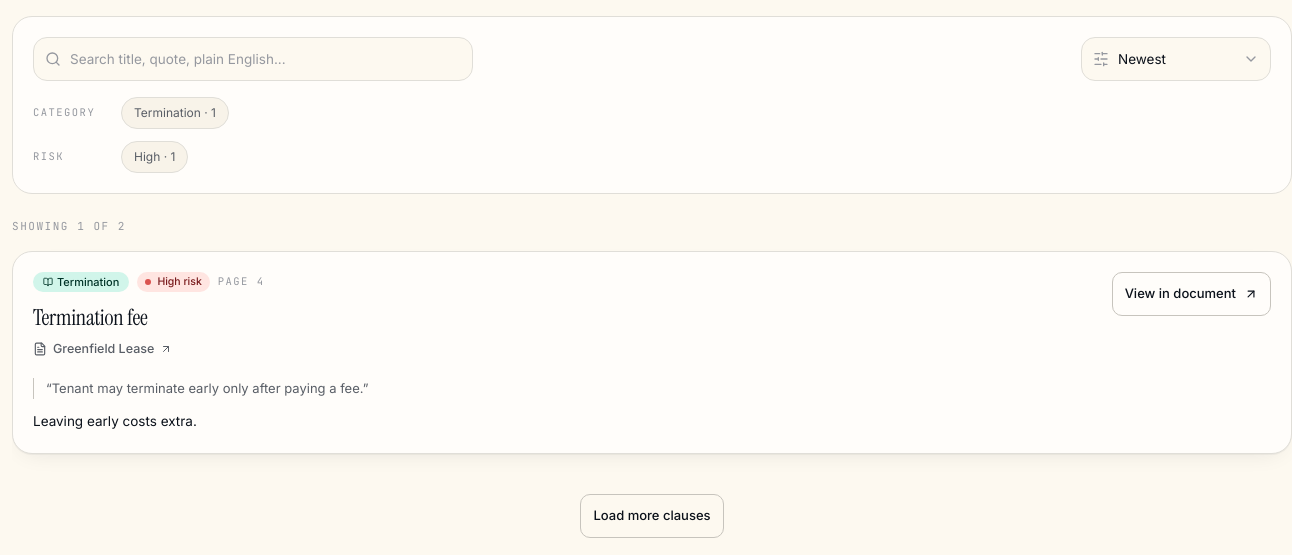
Test case: ClauseLibrary › discards a stale load-more response instead of merging it into a newly filtered list
Click the button "Load more clauses" at (652, 516), box [580,494,724,538]
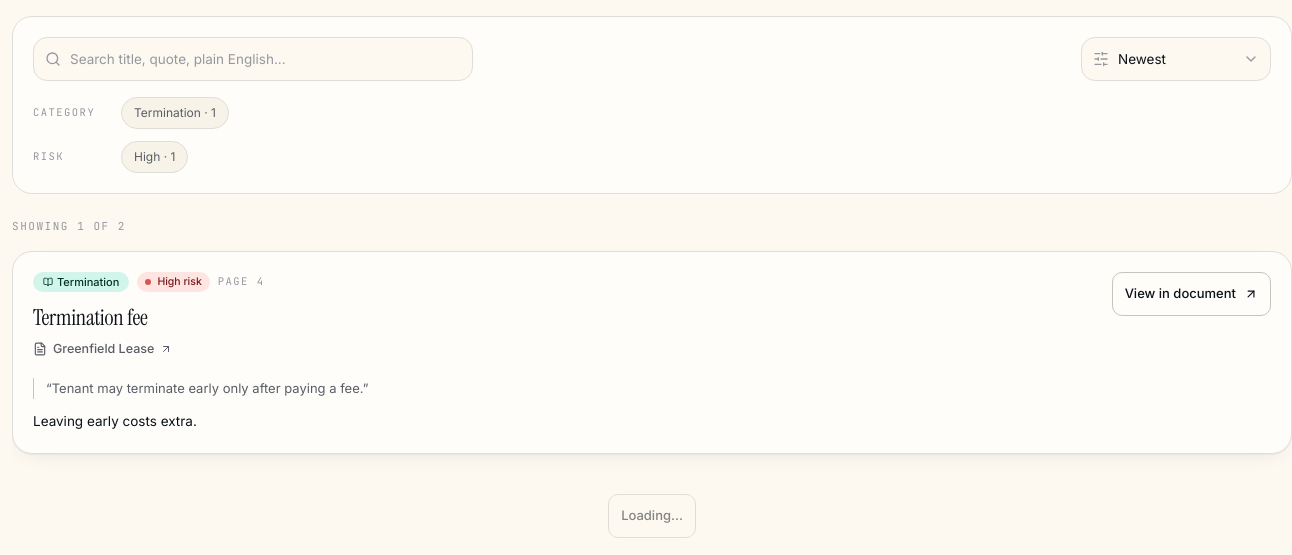
Click the button "High · 1" at (155, 157), box [121,141,188,173]
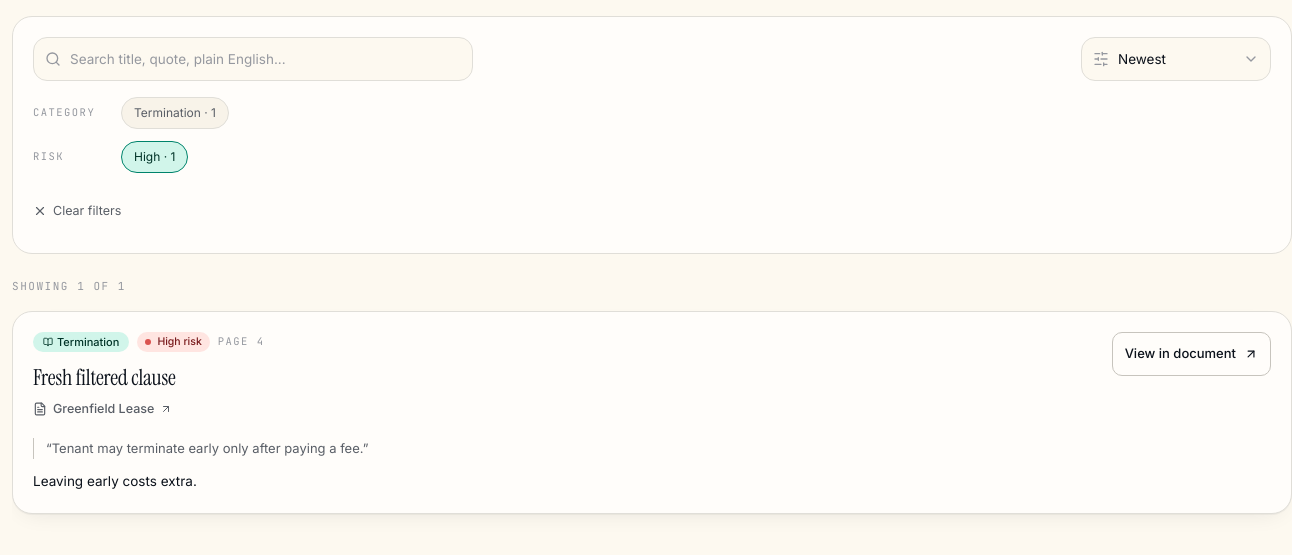
Now the heading "Fresh filtered clause" is shown, box [33,363,176,392]
